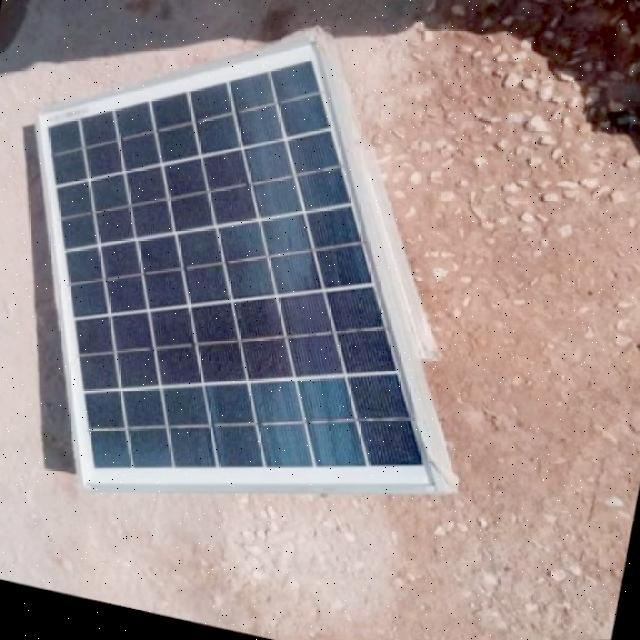Normal Solar Panel: (0, 0, 526, 566)
